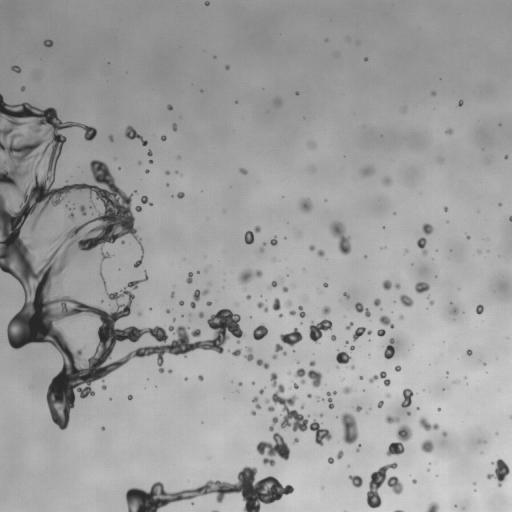droplet: (254, 432, 290, 466), (486, 458, 510, 487), (336, 349, 352, 369), (252, 322, 269, 340), (400, 388, 414, 408), (298, 197, 313, 213), (420, 439, 434, 453), (359, 165, 375, 177), (399, 294, 413, 307), (348, 475, 363, 487), (414, 282, 430, 293), (425, 501, 439, 511), (422, 223, 433, 235), (256, 301, 268, 312), (272, 297, 281, 311), (227, 348, 241, 357), (3, 95, 14, 106), (56, 110, 67, 121), (114, 128, 125, 139), (370, 171, 381, 182), (8, 203, 19, 214), (347, 237, 358, 248), (100, 240, 111, 251), (131, 268, 142, 279), (191, 278, 202, 289), (271, 287, 282, 298), (388, 287, 399, 298), (377, 288, 388, 299), (370, 307, 381, 318), (354, 314, 365, 325), (114, 318, 125, 329), (204, 328, 215, 339), (166, 331, 177, 342), (225, 333, 236, 344), (41, 340, 52, 351), (24, 341, 35, 352), (54, 352, 65, 363), (103, 372, 114, 383), (346, 375, 357, 386), (90, 378, 101, 389), (351, 379, 362, 390), (264, 384, 275, 395), (315, 384, 326, 395), (294, 388, 305, 399), (349, 392, 360, 403), (333, 404, 344, 415), (381, 404, 392, 415), (352, 412, 363, 423), (399, 415, 410, 426), (354, 421, 365, 432), (410, 423, 421, 434), (333, 425, 344, 436), (281, 428, 292, 439), (424, 429, 435, 440), (282, 432, 293, 443), (343, 442, 354, 453), (250, 457, 261, 468), (228, 474, 239, 485), (164, 482, 175, 493), (377, 484, 388, 495), (232, 491, 243, 502), (194, 493, 205, 504), (382, 176, 392, 187), (382, 279, 392, 290), (298, 305, 306, 318), (342, 385, 353, 394), (258, 502, 269, 511), (185, 272, 193, 284), (273, 97, 282, 106), (283, 299, 292, 308), (164, 128, 173, 137), (359, 158, 368, 167), (108, 166, 117, 175), (167, 173, 176, 182), (86, 176, 95, 185), (130, 197, 139, 206), (309, 197, 318, 206), (291, 200, 300, 209), (294, 208, 303, 217), (123, 232, 132, 241), (330, 236, 339, 245), (248, 262, 257, 271), (234, 265, 243, 274), (419, 274, 428, 283), (249, 275, 258, 284), (186, 283, 195, 292), (408, 290, 417, 299), (198, 294, 207, 303), (249, 296, 258, 305), (195, 299, 204, 308), (11, 304, 20, 313), (368, 304, 377, 313), (300, 328, 309, 337), (380, 336, 389, 345), (207, 348, 216, 357), (162, 351, 171, 360), (389, 356, 398, 365), (52, 365, 61, 374), (310, 386, 319, 395), (390, 422, 399, 431), (284, 438, 293, 447), (272, 453, 281, 462), (389, 453, 398, 462), (487, 464, 496, 473), (385, 468, 394, 477), (253, 472, 262, 481), (361, 475, 370, 484), (360, 482, 369, 491), (178, 498, 187, 507), (43, 39, 53, 47), (11, 65, 21, 73), (306, 141, 316, 149), (270, 235, 277, 246), (476, 304, 483, 315), (444, 127, 453, 135), (345, 321, 353, 330), (376, 329, 385, 337), (314, 395, 324, 402), (336, 449, 343, 459), (505, 471, 511, 482), (156, 505, 167, 511), (316, 249, 324, 257), (450, 307, 458, 315), (258, 386, 266, 394), (307, 165, 316, 172), (176, 191, 185, 198), (399, 106, 407, 113), (373, 298, 380, 306), (0, 149, 5, 160), (0, 330, 5, 341), (238, 168, 247, 174), (451, 379, 460, 385), (308, 244, 315, 251), (343, 292, 350, 299), (355, 405, 362, 412), (292, 437, 299, 444), (2, 96, 9, 103), (40, 103, 47, 110), (70, 115, 77, 122), (119, 126, 126, 133), (98, 155, 105, 162), (142, 161, 149, 168), (164, 174, 171, 181), (113, 179, 120, 186), (51, 182, 58, 189), (301, 191, 308, 198), (128, 203, 135, 210), (141, 203, 148, 210), (129, 207, 136, 214), (343, 229, 350, 236), (418, 230, 425, 237), (424, 233, 431, 240), (333, 246, 340, 253), (344, 252, 351, 259), (275, 284, 282, 291), (107, 286, 114, 293), (397, 288, 404, 295), (173, 294, 180, 301), (266, 300, 273, 307), (183, 301, 190, 308), (396, 301, 403, 308), (230, 306, 237, 313), (191, 307, 198, 314), (381, 309, 388, 316), (203, 312, 210, 319), (325, 313, 332, 320), (237, 320, 244, 327), (172, 321, 179, 328), (378, 322, 385, 329), (382, 323, 389, 330), (348, 327, 355, 334), (185, 328, 192, 335), (1, 335, 8, 342), (188, 336, 195, 343), (3, 341, 10, 348), (293, 341, 300, 348), (281, 342, 288, 349), (342, 345, 349, 352), (193, 347, 200, 354), (240, 348, 247, 355), (187, 349, 194, 356), (150, 352, 157, 359), (252, 352, 259, 359), (237, 353, 244, 360), (261, 355, 268, 362), (161, 361, 168, 368), (291, 364, 298, 371), (303, 364, 310, 371), (312, 364, 319, 371), (117, 365, 124, 372), (264, 368, 271, 375), (363, 372, 370, 379), (275, 376, 282, 383), (294, 376, 301, 383), (305, 376, 312, 383), (319, 376, 326, 383), (376, 377, 383, 384), (44, 378, 51, 385), (343, 379, 350, 386), (242, 380, 249, 387), (253, 383, 260, 390), (335, 385, 342, 392), (41, 386, 48, 393), (72, 389, 79, 396), (278, 391, 285, 398), (257, 395, 264, 402), (41, 400, 48, 407), (248, 402, 255, 409), (260, 402, 267, 409), (275, 402, 282, 409), (407, 404, 414, 411), (68, 407, 75, 414), (349, 408, 356, 415), (44, 410, 51, 417), (389, 410, 396, 417), (267, 411, 274, 418), (67, 417, 74, 424), (426, 417, 433, 424), (273, 423, 280, 430), (392, 435, 399, 442), (401, 439, 408, 446), (431, 440, 438, 447), (350, 441, 357, 448), (251, 448, 258, 455), (420, 450, 427, 457), (423, 451, 430, 458), (371, 465, 378, 472), (490, 476, 497, 483), (197, 479, 204, 486), (190, 482, 197, 489), (143, 486, 150, 493), (210, 491, 217, 498), (223, 492, 230, 499), (119, 494, 126, 501), (175, 499, 182, 506), (213, 501, 220, 508), (422, 503, 429, 510), (377, 400, 383, 408), (371, 506, 380, 511), (166, 104, 173, 110), (160, 134, 166, 141), (436, 157, 443, 163), (294, 231, 301, 237), (403, 248, 409, 255), (282, 286, 289, 292), (198, 311, 204, 318), (330, 334, 336, 341), (349, 344, 355, 351), (394, 365, 401, 371), (441, 430, 447, 437), (328, 456, 334, 463), (172, 123, 177, 131), (108, 134, 113, 142), (170, 291, 175, 299), (315, 412, 323, 417), (394, 283, 400, 289), (178, 300, 184, 306), (466, 349, 472, 355), (458, 99, 463, 106), (147, 149, 152, 156), (289, 310, 296, 315), (198, 374, 203, 381), (430, 91, 436, 96), (164, 170, 170, 175), (246, 294, 251, 300), (206, 301, 212, 306), (234, 301, 239, 307), (349, 364, 355, 369), (385, 393, 391, 398), (507, 463, 511, 470), (436, 507, 443, 511), (454, 507, 461, 511), (20, 86, 25, 91), (323, 282, 328, 287), (429, 300, 434, 305), (278, 313, 283, 318), (286, 370, 291, 375), (358, 375, 363, 380), (307, 393, 312, 398), (412, 479, 417, 484), (435, 90, 440, 95), (86, 121, 91, 126), (448, 123, 453, 128), (167, 124, 172, 129), (176, 124, 181, 129), (71, 125, 76, 130), (80, 128, 85, 133), (56, 129, 61, 134), (135, 129, 140, 134), (445, 133, 450, 138), (92, 136, 97, 141), (133, 136, 138, 141), (104, 137, 109, 142), (125, 137, 130, 142), (86, 139, 91, 144), (62, 141, 67, 146), (144, 144, 149, 149), (146, 163, 151, 168), (242, 164, 247, 169), (177, 167, 182, 172), (169, 169, 174, 174), (238, 172, 243, 177), (174, 173, 179, 178), (76, 179, 81, 184), (67, 180, 72, 185), (179, 187, 184, 192), (172, 190, 177, 195), (124, 191, 129, 196), (147, 197, 152, 202), (137, 201, 142, 206), (426, 219, 431, 224), (132, 223, 137, 228), (259, 226, 264, 231), (252, 231, 257, 236), (414, 235, 419, 240), (115, 237, 120, 242), (140, 239, 145, 244), (240, 239, 245, 244), (249, 242, 254, 247), (266, 242, 271, 247), (246, 243, 251, 248), (304, 243, 309, 248), (423, 244, 428, 249), (321, 246, 326, 251), (416, 246, 421, 251), (304, 247, 309, 252), (312, 248, 317, 253), (481, 249, 486, 254), (323, 252, 328, 257), (135, 255, 140, 260), (316, 255, 321, 260), (320, 255, 325, 260), (131, 258, 136, 263), (137, 264, 142, 269), (3, 271, 8, 276), (183, 273, 188, 278), (191, 274, 196, 279), (129, 276, 134, 281), (417, 277, 422, 282), (13, 278, 18, 283), (266, 279, 271, 284), (122, 281, 127, 286), (282, 281, 287, 286), (390, 281, 395, 286), (378, 284, 383, 289), (390, 284, 395, 289), (208, 285, 213, 290), (126, 286, 131, 291), (189, 289, 194, 294), (422, 290, 427, 295), (198, 293, 203, 298), (189, 296, 194, 301), (259, 297, 264, 302), (351, 299, 356, 304), (424, 299, 429, 304), (194, 300, 199, 305), (278, 300, 283, 305), (325, 301, 330, 306), (378, 302, 383, 307), (252, 303, 257, 308), (319, 303, 324, 308), (220, 304, 225, 309), (428, 304, 433, 309), (448, 304, 453, 309), (129, 305, 134, 310), (258, 307, 263, 312), (351, 307, 356, 312), (457, 307, 462, 312), (471, 307, 476, 312), (295, 308, 300, 313), (212, 309, 217, 314), (274, 309, 279, 314), (360, 310, 365, 315), (456, 311, 461, 316), (480, 311, 485, 316), (449, 313, 454, 318), (297, 316, 302, 321), (389, 318, 394, 323), (158, 322, 163, 327), (253, 322, 258, 327), (149, 323, 154, 328), (264, 323, 269, 328), (136, 324, 141, 329), (288, 327, 293, 332), (296, 327, 301, 332), (164, 329, 169, 334), (372, 329, 377, 334), (362, 331, 367, 336), (357, 335, 362, 340), (238, 336, 243, 341), (261, 336, 266, 341), (317, 337, 322, 342), (252, 338, 257, 343), (308, 338, 313, 343), (348, 340, 353, 345), (385, 340, 390, 345), (391, 342, 396, 347), (270, 344, 275, 349), (9, 346, 14, 351), (338, 347, 343, 352), (277, 349, 282, 354), (346, 350, 351, 355), (332, 351, 337, 356), (178, 352, 183, 357), (379, 352, 384, 357), (230, 354, 235, 359), (134, 355, 139, 360), (309, 355, 314, 360), (242, 357, 247, 362), (251, 358, 256, 363), (332, 358, 337, 363), (347, 359, 352, 364), (339, 362, 344, 367), (297, 363, 302, 368), (154, 364, 159, 369), (258, 364, 263, 369), (482, 365, 487, 370), (162, 369, 167, 374), (375, 370, 380, 375), (368, 372, 373, 377), (266, 373, 271, 378), (303, 373, 308, 378), (193, 375, 198, 380), (458, 375, 463, 380), (460, 378, 465, 383), (233, 379, 238, 384), (389, 380, 394, 385), (401, 384, 406, 389), (237, 385, 242, 390), (384, 385, 389, 390), (273, 386, 278, 391), (72, 387, 77, 392), (410, 387, 415, 392), (336, 389, 341, 394), (254, 391, 259, 396), (348, 391, 353, 396), (343, 392, 348, 397), (329, 393, 334, 398), (248, 394, 253, 399), (323, 394, 328, 399), (399, 395, 404, 400), (410, 395, 415, 400), (309, 396, 314, 401), (269, 400, 274, 405), (373, 400, 378, 405), (381, 403, 386, 408), (288, 405, 293, 410), (254, 408, 259, 413), (296, 409, 301, 414), (315, 417, 320, 422), (267, 420, 272, 425), (53, 423, 58, 428), (287, 425, 292, 430), (295, 428, 300, 433), (446, 430, 451, 435), (445, 434, 450, 439), (321, 437, 326, 442), (253, 440, 258, 445), (270, 440, 275, 445), (385, 441, 390, 446), (314, 442, 319, 447), (383, 446, 388, 451), (288, 451, 293, 456), (332, 455, 337, 460), (340, 455, 345, 460), (492, 457, 497, 462), (265, 462, 270, 467), (248, 463, 253, 468), (237, 466, 242, 471), (351, 471, 356, 476), (272, 473, 277, 478), (211, 476, 216, 481), (407, 476, 412, 481), (482, 476, 487, 481), (397, 477, 402, 482), (151, 478, 156, 483), (346, 478, 351, 483), (382, 479, 387, 484), (281, 482, 286, 487), (290, 482, 295, 487), (401, 488, 406, 493), (121, 490, 126, 495), (281, 493, 286, 498), (362, 494, 367, 499), (379, 496, 384, 501), (190, 497, 195, 502), (273, 499, 278, 504), (225, 64, 229, 70), (443, 206, 447, 212), (164, 309, 170, 313), (128, 394, 132, 400), (204, 1, 209, 5), (176, 155, 181, 159), (504, 154, 508, 159), (137, 160, 141, 165), (148, 160, 153, 164), (165, 182, 169, 187), (477, 249, 481, 254), (271, 257, 275, 262), (137, 311, 141, 316), (399, 314, 403, 319), (295, 359, 299, 364), (167, 369, 172, 373), (184, 376, 188, 381), (251, 380, 255, 385), (406, 411, 411, 415), (324, 38, 328, 42), (363, 57, 367, 61), (295, 91, 299, 95), (145, 169, 149, 173), (498, 202, 502, 206), (180, 313, 184, 317), (238, 382, 242, 386), (437, 407, 441, 411), (101, 426, 105, 430), (494, 431, 498, 435), (472, 481, 476, 485), (172, 317, 175, 322), (321, 485, 324, 490), (508, 154, 511, 159), (123, 508, 128, 511), (213, 55, 216, 59), (234, 100, 238, 103), (118, 166, 121, 170), (134, 190, 137, 194), (121, 240, 124, 244), (364, 254, 367, 258), (379, 307, 383, 310), (292, 349, 295, 353), (482, 362, 486, 365), (341, 377, 344, 381), (416, 406, 419, 410), (508, 415, 511, 419), (428, 462, 432, 465), (347, 464, 351, 467), (426, 468, 430, 471), (190, 502, 194, 505), (509, 216, 511, 221), (200, 0, 205, 2), (0, 148, 2, 153), (0, 268, 2, 273), (200, 89, 203, 92), (498, 123, 501, 126), (113, 157, 116, 160), (324, 199, 327, 202), (393, 212, 396, 215), (446, 220, 449, 223), (382, 226, 385, 229), (283, 236, 286, 239), (486, 249, 489, 252), (410, 262, 413, 265), (196, 270, 199, 273), (393, 300, 396, 303), (449, 301, 452, 304), (148, 307, 151, 310), (249, 315, 252, 318), (464, 376, 467, 379), (422, 388, 425, 391), (442, 388, 445, 391), (236, 390, 239, 393), (368, 407, 371, 410), (435, 474, 438, 477), (454, 504, 457, 507), (204, 5, 207, 8), (48, 36, 51, 39), (40, 41, 43, 44), (52, 42, 55, 45), (45, 46, 48, 49), (212, 52, 215, 55), (363, 54, 366, 57), (360, 57, 363, 60), (367, 57, 370, 60), (364, 60, 367, 63), (14, 62, 17, 65), (17, 63, 20, 66), (107, 63, 110, 66), (222, 66, 225, 69), (228, 67, 231, 70), (20, 69, 23, 72), (225, 69, 228, 72), (13, 71, 16, 74), (17, 87, 20, 90), (24, 87, 27, 90), (295, 88, 298, 91), (196, 89, 199, 92), (298, 91, 301, 94), (294, 94, 297, 97), (233, 97, 236, 100), (231, 100, 234, 103), (237, 100, 240, 103), (455, 101, 458, 104), (234, 103, 237, 106), (461, 103, 464, 106), (171, 104, 174, 107), (169, 109, 172, 112), (443, 127, 446, 130), (157, 135, 160, 138), (112, 136, 115, 139), (142, 137, 145, 140), (165, 137, 168, 140), (158, 138, 161, 141), (162, 140, 165, 143), (151, 150, 154, 153), (501, 154, 504, 157), (58, 155, 61, 158), (148, 156, 151, 159), (503, 158, 506, 161), (56, 159, 59, 162), (55, 164, 58, 167), (120, 167, 123, 170), (175, 167, 178, 170), (142, 168, 145, 171), (147, 171, 150, 174), (162, 172, 165, 175), (162, 183, 165, 186), (168, 183, 171, 186), (133, 186, 136, 189), (183, 191, 186, 194), (142, 192, 145, 195), (498, 199, 501, 202), (444, 203, 447, 206), (149, 205, 152, 208), (498, 205, 501, 208), (447, 207, 450, 210), (441, 208, 444, 211), (390, 209, 393, 212), (506, 215, 509, 218), (506, 218, 509, 221), (379, 226, 382, 229), (384, 226, 387, 229), (242, 230, 245, 233), (466, 232, 469, 235), (463, 234, 466, 237), (241, 236, 244, 239), (286, 236, 289, 239), (275, 237, 278, 240), (469, 237, 472, 240), (276, 241, 279, 244), (381, 243, 384, 246), (137, 244, 140, 247), (273, 244, 276, 247), (142, 245, 145, 248), (143, 248, 146, 251), (365, 252, 368, 255), (360, 254, 363, 257), (366, 255, 369, 258), (103, 258, 106, 261), (141, 259, 144, 262), (130, 264, 133, 267), (196, 267, 199, 270), (188, 268, 191, 271), (199, 270, 202, 273), (101, 272, 104, 275), (146, 273, 149, 276), (288, 273, 291, 276), (142, 275, 145, 278), (283, 275, 286, 278), (272, 277, 275, 280), (104, 278, 107, 281), (323, 279, 326, 282), (326, 280, 329, 283), (184, 281, 187, 284), (105, 282, 108, 285), (327, 284, 330, 287), (323, 286, 326, 289), (287, 287, 290, 290), (341, 289, 344, 292), (168, 291, 171, 294), (346, 291, 349, 294), (244, 292, 247, 295), (248, 292, 251, 295), (342, 295, 345, 298), (243, 297, 246, 300), (428, 297, 431, 300), (131, 298, 134, 301), (208, 298, 211, 301), (451, 299, 454, 302), (433, 300, 436, 303), (446, 300, 449, 303), (479, 301, 482, 304), (299, 302, 302, 305), (475, 302, 478, 305), (148, 304, 151, 307), (177, 304, 180, 307), (362, 305, 365, 308), (151, 307, 154, 310), (168, 307, 171, 310), (148, 309, 151, 312), (164, 312, 167, 315), (248, 312, 251, 315), (476, 313, 479, 316), (281, 315, 284, 318), (367, 316, 370, 319), (330, 319, 333, 322), (393, 324, 396, 327), (334, 333, 337, 336), (377, 335, 380, 338), (354, 345, 357, 348), (383, 346, 386, 349), (468, 346, 471, 349), (464, 347, 467, 350), (471, 349, 474, 352), (463, 350, 466, 353), (364, 352, 367, 355), (470, 353, 473, 356), (465, 354, 468, 357), (483, 359, 486, 362), (479, 362, 482, 365), (400, 367, 403, 370), (380, 368, 383, 371), (397, 370, 400, 373), (448, 370, 451, 373), (169, 372, 172, 375), (359, 372, 362, 375), (443, 372, 446, 375), (447, 373, 450, 376), (181, 375, 184, 378), (202, 375, 205, 378), (186, 378, 189, 381), (464, 378, 467, 381), (240, 379, 243, 382), (359, 379, 362, 382), (248, 380, 251, 383), (254, 380, 257, 383), (249, 383, 252, 386), (452, 383, 455, 386), (151, 384, 154, 387), (442, 384, 445, 387), (105, 386, 108, 389), (291, 386, 294, 389), (364, 388, 367, 391), (444, 388, 447, 391), (361, 391, 364, 394), (412, 391, 415, 394), (131, 393, 134, 396), (108, 394, 111, 397), (124, 396, 127, 399), (305, 396, 308, 399), (111, 397, 114, 400), (379, 397, 382, 400), (130, 398, 133, 401), (107, 399, 110, 402), (127, 399, 130, 402), (326, 401, 329, 404), (358, 403, 361, 406), (398, 404, 401, 407), (438, 404, 441, 407), (353, 405, 356, 408), (418, 405, 421, 408), (331, 407, 334, 410), (377, 407, 380, 410), (434, 407, 437, 410), (440, 407, 443, 410), (359, 409, 362, 412), (367, 409, 370, 412), (249, 413, 252, 416), (200, 423, 203, 426), (103, 424, 106, 427), (98, 427, 101, 430), (480, 442, 483, 445), (360, 443, 363, 446), (358, 446, 361, 449), (355, 451, 358, 454), (324, 458, 327, 461), (329, 463, 332, 466), (426, 464, 429, 467), (423, 467, 426, 470), (426, 471, 429, 474), (413, 476, 416, 479), (472, 478, 475, 481), (409, 480, 412, 483), (415, 481, 418, 484), (475, 481, 478, 484), (472, 485, 475, 488), (498, 486, 501, 489), (472, 491, 475, 494), (452, 501, 455, 504), (456, 503, 459, 506), (452, 506, 455, 509), (397, 507, 400, 510), (65, 180, 68, 182), (281, 196, 284, 198), (435, 249, 438, 251), (183, 257, 185, 260), (435, 275, 437, 278), (300, 322, 303, 324), (231, 380, 233, 383), (109, 397, 111, 400), (480, 451, 483, 453), (473, 489, 476, 491), (462, 507, 465, 509), (462, 509, 465, 511), (171, 195, 173, 197), (118, 268, 120, 270), (286, 274, 288, 276), (260, 295, 262, 297), (265, 299, 267, 301), (426, 307, 428, 309), (344, 315, 346, 317), (368, 339, 370, 341), (312, 353, 314, 355), (345, 366, 347, 368), (147, 378, 149, 380), (466, 383, 468, 385), (155, 385, 157, 387), (362, 389, 364, 391), (201, 421, 203, 423), (207, 0, 210, 1), (450, 249, 451, 251), (391, 311, 393, 312), (144, 388, 146, 389), (409, 474, 410, 476), (108, 62, 109, 63)
ligament: (264, 372, 332, 446), (272, 327, 306, 359), (385, 424, 412, 457), (327, 220, 351, 255), (336, 412, 358, 444), (243, 346, 269, 369), (190, 282, 212, 309), (124, 125, 147, 146), (237, 268, 262, 284), (418, 416, 439, 431), (244, 225, 260, 244), (352, 326, 372, 341), (353, 302, 370, 317), (384, 337, 395, 359), (267, 277, 285, 290), (416, 237, 428, 255), (379, 315, 394, 329), (250, 396, 261, 415), (384, 415, 400, 424), (259, 241, 266, 252), (203, 264, 211, 273), (174, 170, 183, 176), (355, 443, 361, 452), (464, 232, 470, 239), (187, 312, 191, 322), (477, 439, 487, 443), (343, 340, 348, 346), (300, 402, 304, 409), (393, 509, 404, 511), (446, 371, 449, 378), (426, 294, 430, 299), (380, 246, 386, 249), (108, 301, 110, 306), (368, 353, 370, 358), (211, 510, 219, 511), (344, 510, 347, 511)
